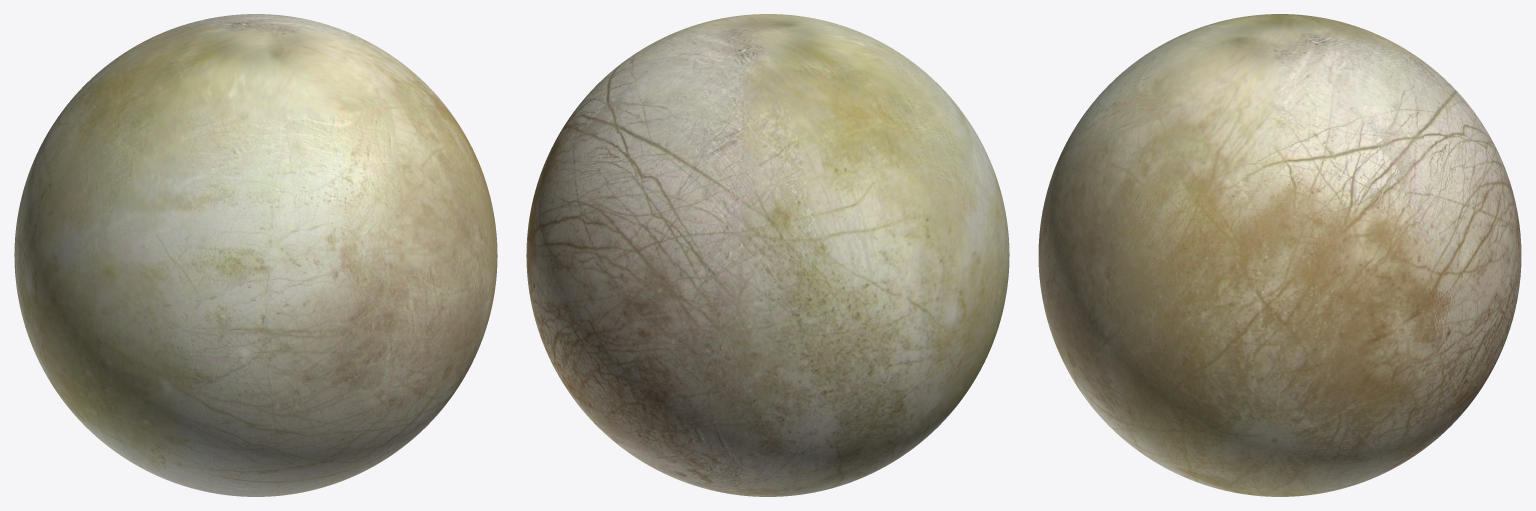
Rendered from europa.glb.
3 renders of one model, left to right at view 1: azimuth 30°, elevation 25°; view 2: azimuth 150°, elevation 25°; view 3: azimuth 270°, elevation 25°, orthographic.
Visible parts, largest first — view 1: europa_globe; view 2: europa_globe; view 3: europa_globe.
Boxes of the visible parts, box(x1,y1,x2,y2) form: europa_globe: box(14, 14, 497, 496); europa_globe: box(526, 14, 1009, 496); europa_globe: box(1038, 14, 1521, 496).
Size of the model in its own units: 2 by 2 by 2.
Materials: 1 (1 with a texture image).
